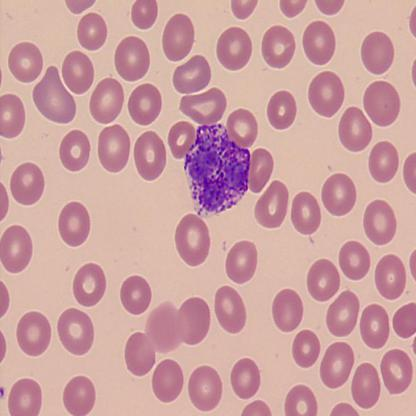Basophil: (182, 122, 252, 217)
